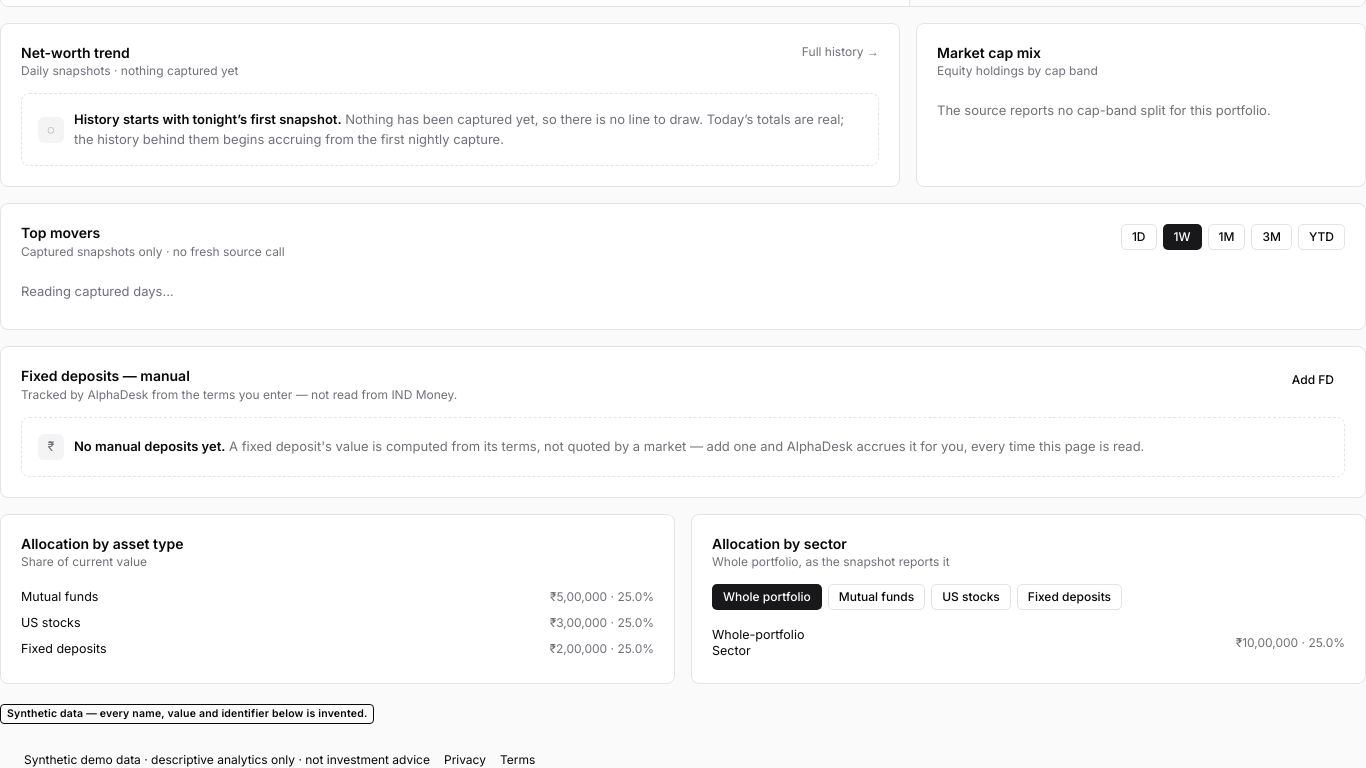
Test: sector drill-down race guard › lets only the newest click write the card, whatever order responses land
(page scrolled)
Expected: the heading "Allocation by sector" is shown, [712,534,847,552]
Click the button "Mutual funds" at (876, 597), box [828,584,925,610]
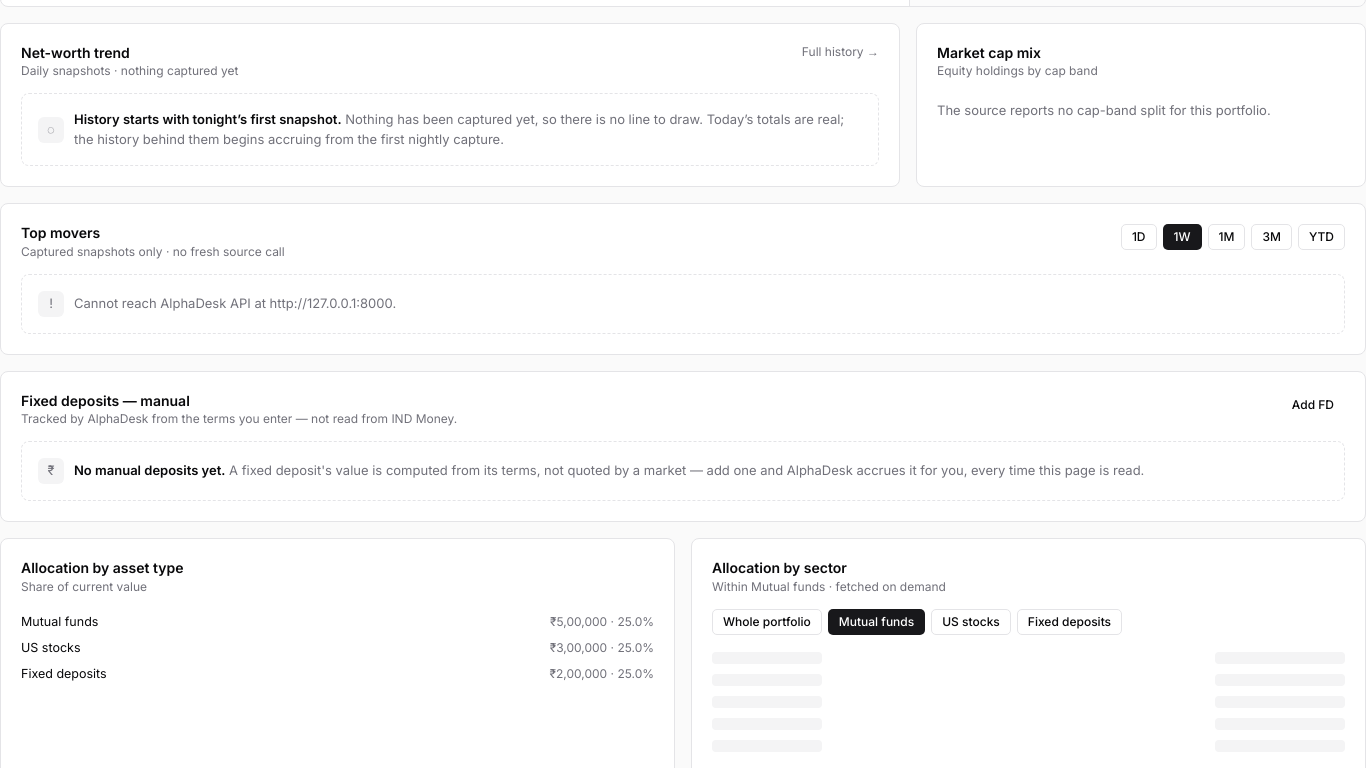
Click the button "US stocks" at (971, 622), box [931,608,1011,634]
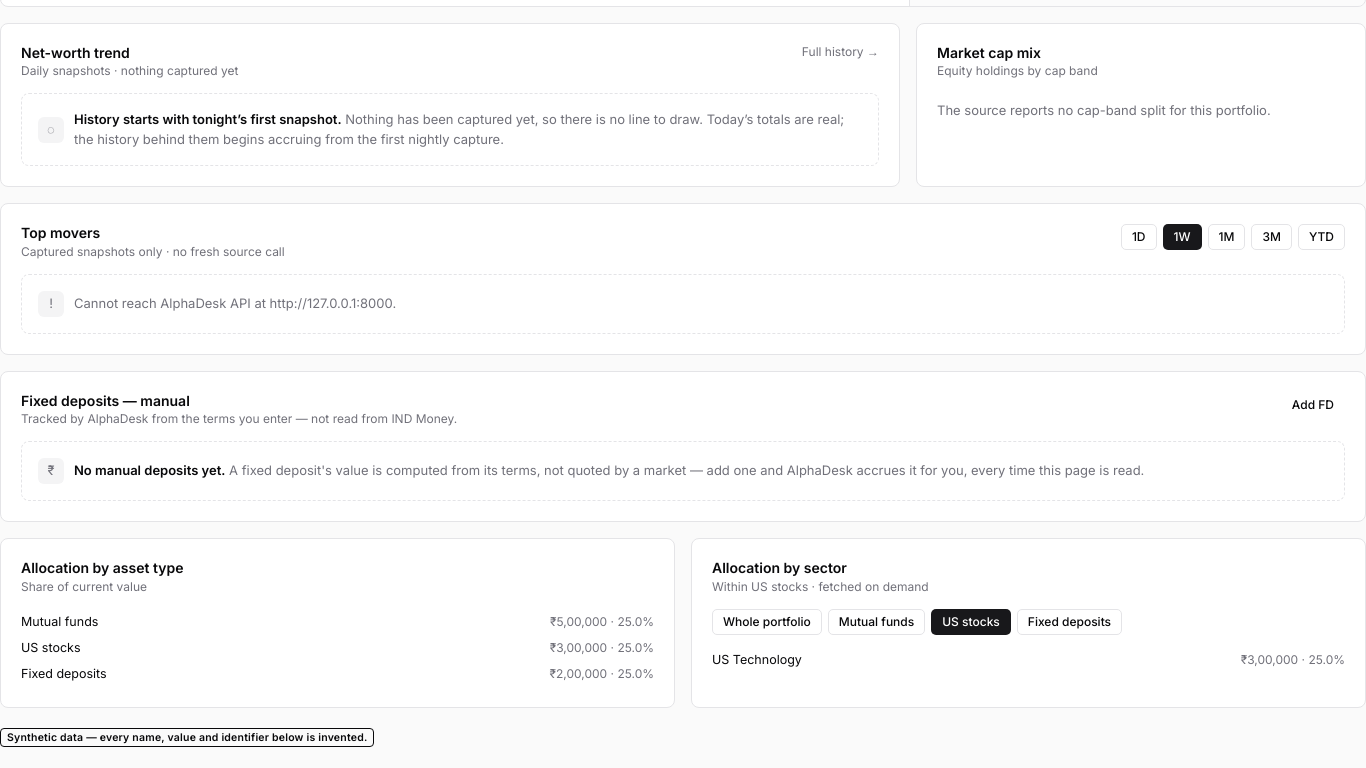
Expected: the text "US Technology" is shown, [712,652,802,667]
Expected: the text "Within US stocks · fetched on demand" is shown, [712,578,929,594]
